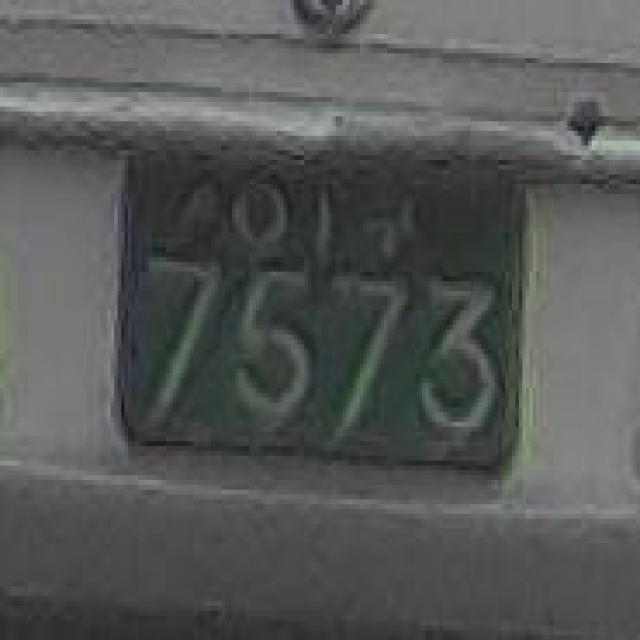illegal_plate: (95, 108, 547, 510)
